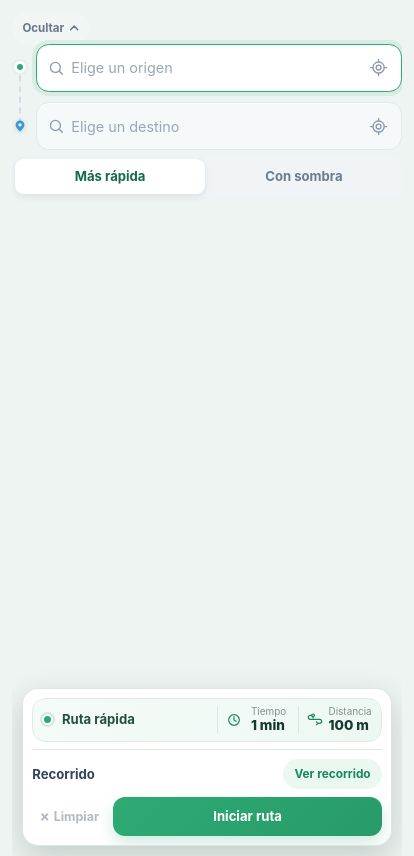
Scenario: RouteSearchPanel › offers the steps of the route, folding the search panel to show them
This screenshot has width=414, height=856.
Click the button "Ver recorrido": [332, 774] box top-left (283, 759), bottom-right (382, 789)
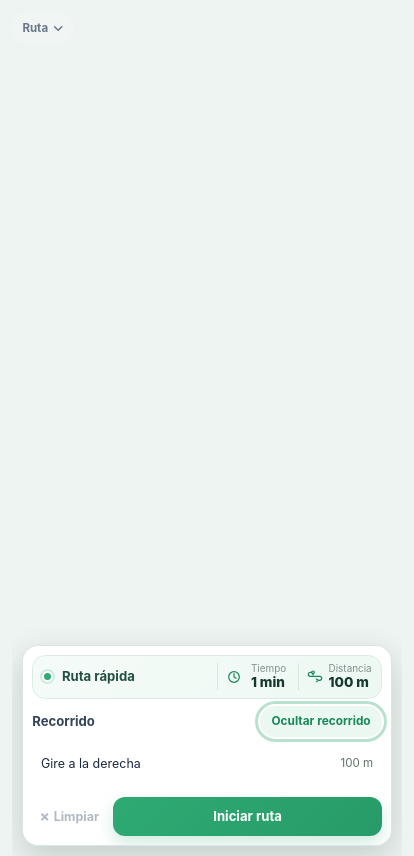
Expected: the button "Ruta" is collapsed, top-left (12, 12), bottom-right (74, 44)
Click the button "Gire a la derecha 100 m": [91, 763] box top-left (32, 744), bottom-right (382, 784)
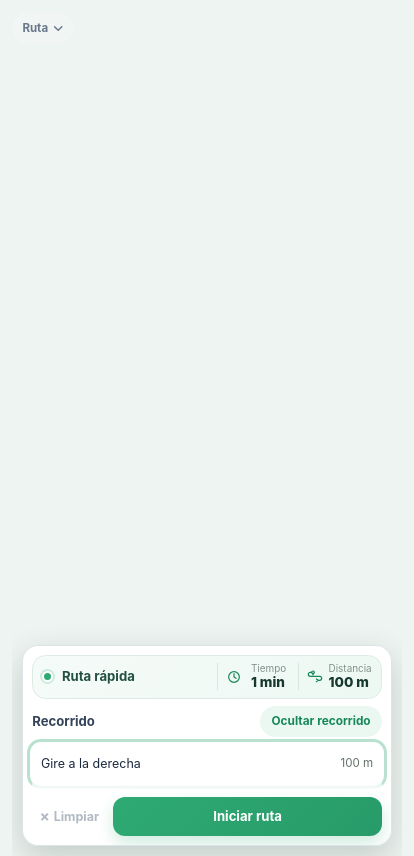
Click the button "Ruta": [43, 28] box top-left (12, 12), bottom-right (74, 44)
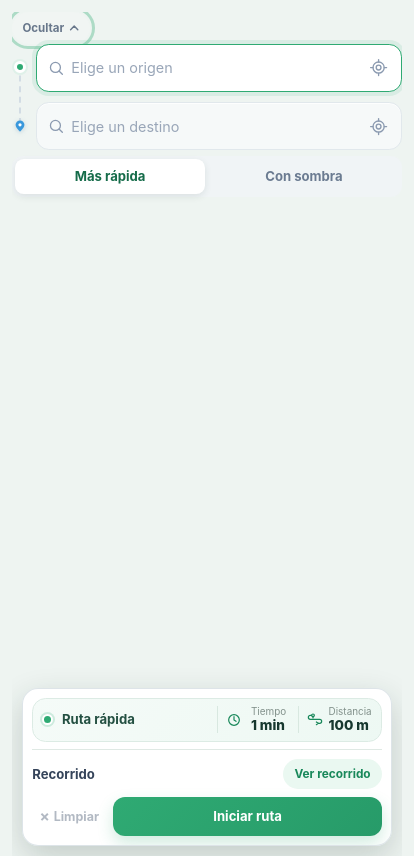
Expected: the button "Ver recorrido" is collapsed, top-left (283, 759), bottom-right (382, 789)
